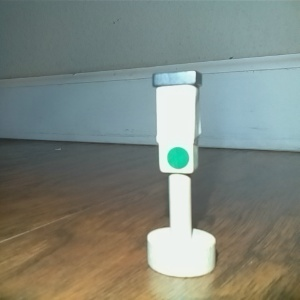traffic light green: (143, 68, 217, 279)
